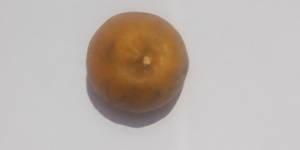BAD: (84, 12, 196, 114)
